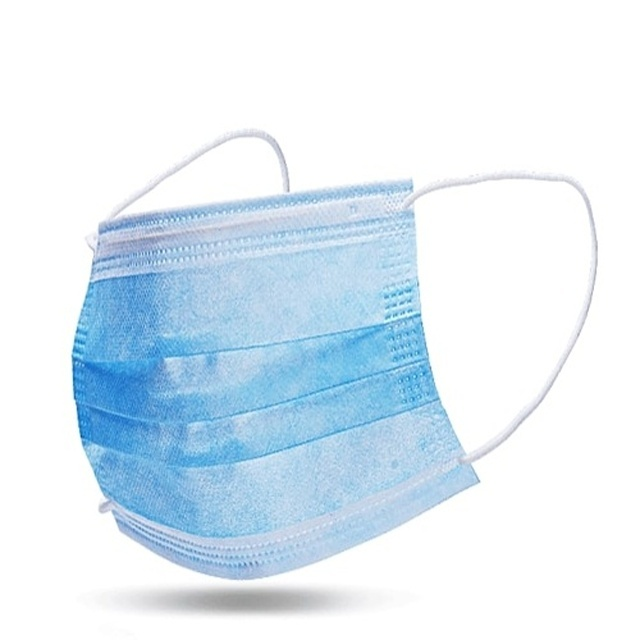mask: (69, 123, 602, 579)
